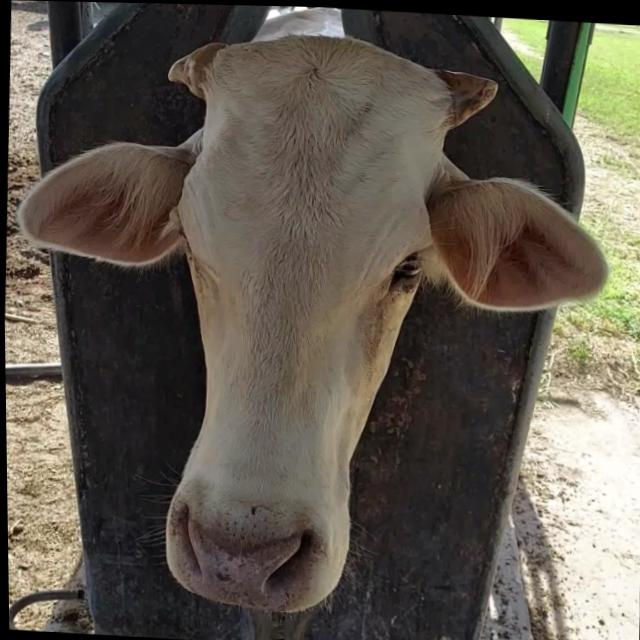cowFace: (153, 24, 457, 619)
